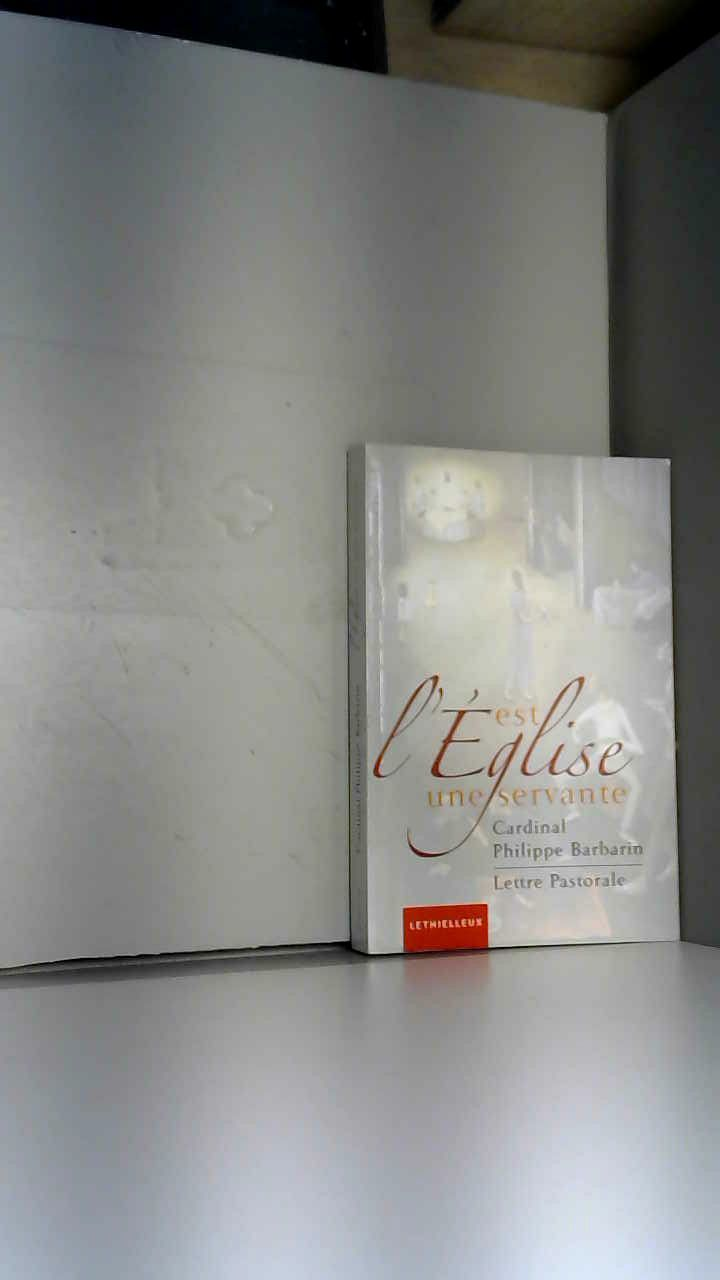book: (307, 400, 720, 993)
